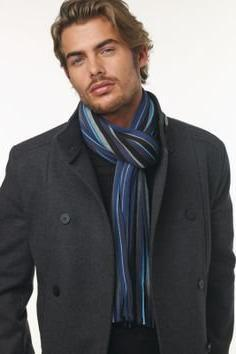Sober: (61, 25, 131, 110)
